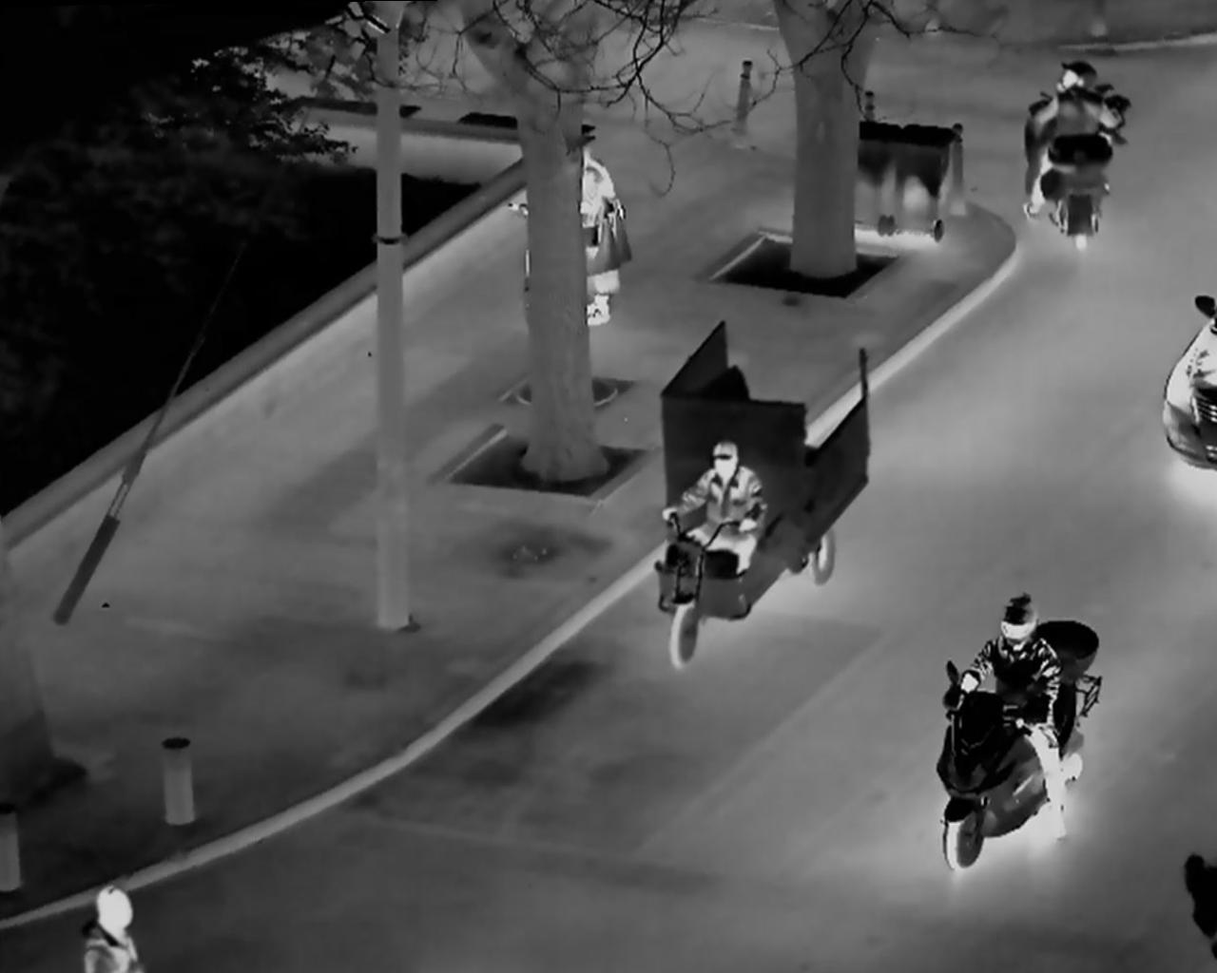person: (949, 591, 1076, 844), (654, 425, 782, 662), (1013, 48, 1135, 253), (570, 139, 640, 334), (79, 882, 148, 973)
